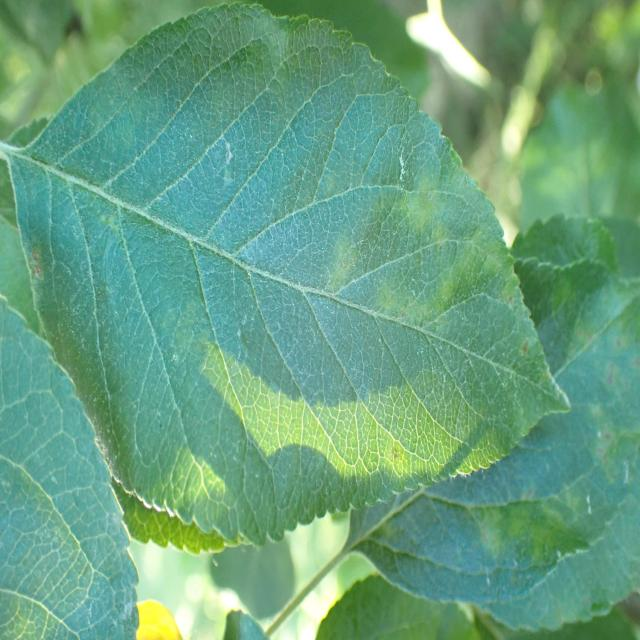scab: (43, 108, 544, 482), (537, 179, 640, 626)
